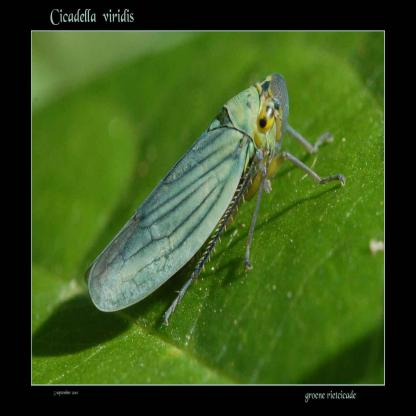Green-Leafhopper: (85, 72, 349, 334)
